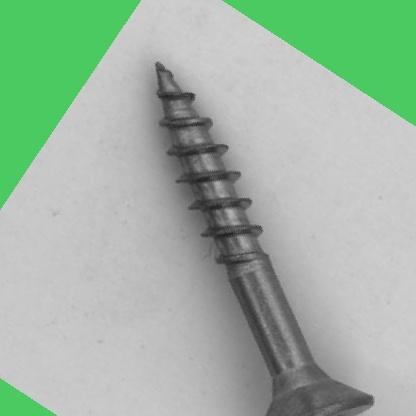metal: (153, 60, 374, 415)
